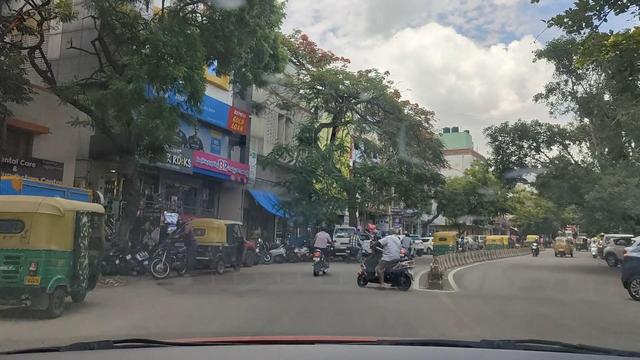LMV: (2, 202, 102, 301), (347, 226, 410, 297), (203, 214, 241, 269), (163, 226, 202, 278), (312, 233, 337, 277)
